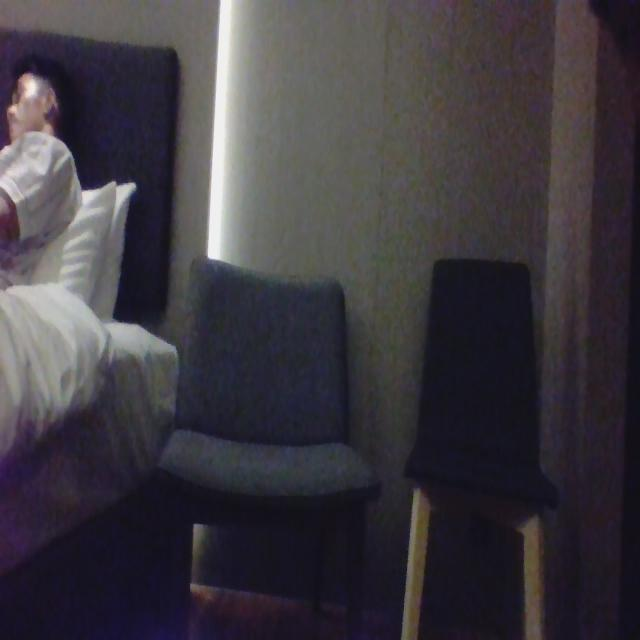empty: (177, 264, 360, 492), (417, 251, 548, 495)
